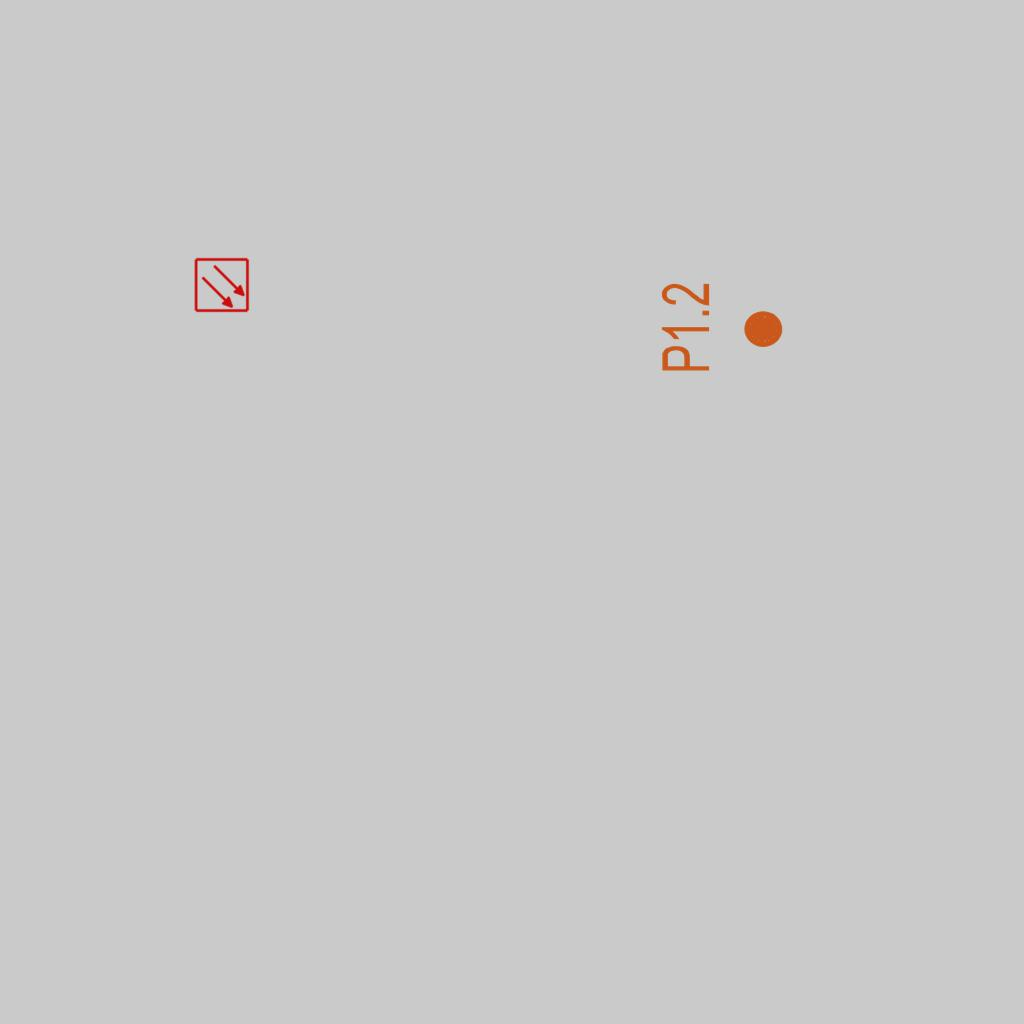Downlight_LED_Einbauleuchten_Flur: (658, 281, 786, 374)
RMO_Rauchmelder_optischer: (194, 257, 250, 313)
